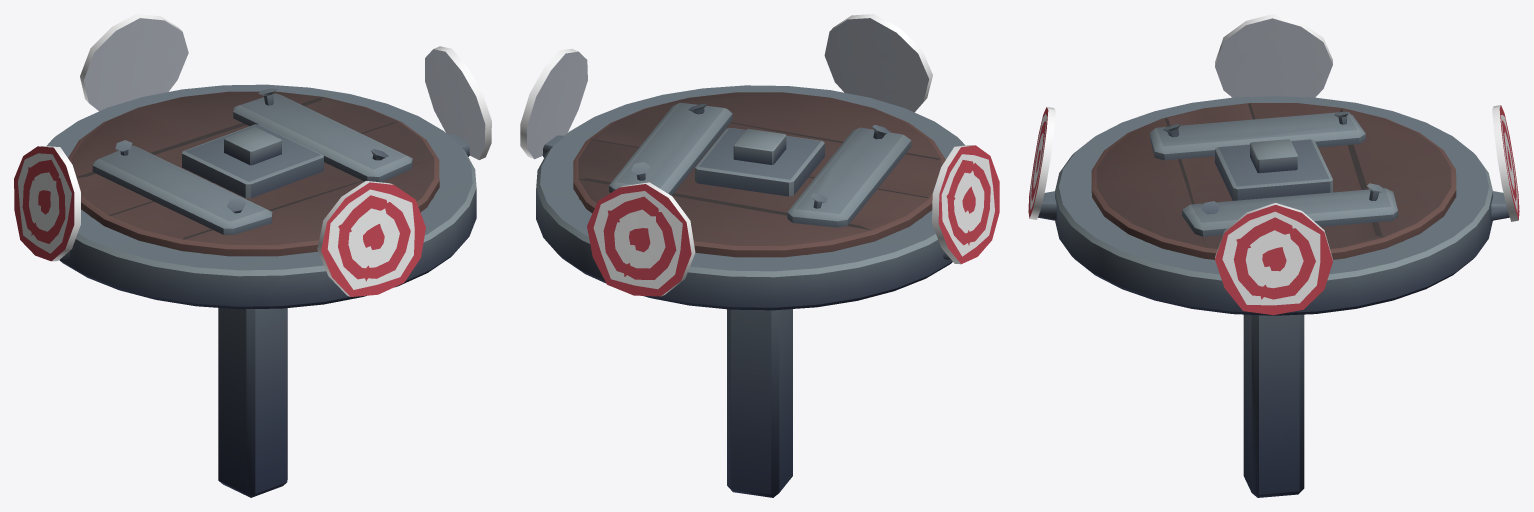
The model's file is WheelX4.fbx.
3 renders of one model, left to right at view 1: azimuth 30°, elevation 25°; view 2: azimuth 150°, elevation 25°; view 3: azimuth 270°, elevation 25°, orthographic. The views are drawn at different scales.
Parts seen in each view (by area): view 1: WheelX4; view 2: WheelX4; view 3: WheelX4.
Boxes of the visible parts, x1,y1,x2,y2 form: WheelX4: (14,14,491,497); WheelX4: (520,14,999,497); WheelX4: (1028,14,1519,497).
Size of the model in its own units: 104 by 88.23 by 104.
